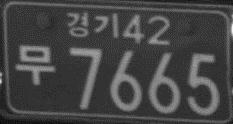2: (146, 14, 170, 46)
4: (122, 14, 144, 44)
5: (185, 52, 219, 117)
6: (109, 49, 142, 113), (147, 51, 180, 114)
7: (67, 46, 103, 110)
경기_O: (66, 11, 119, 39)
무: (14, 44, 55, 86)
